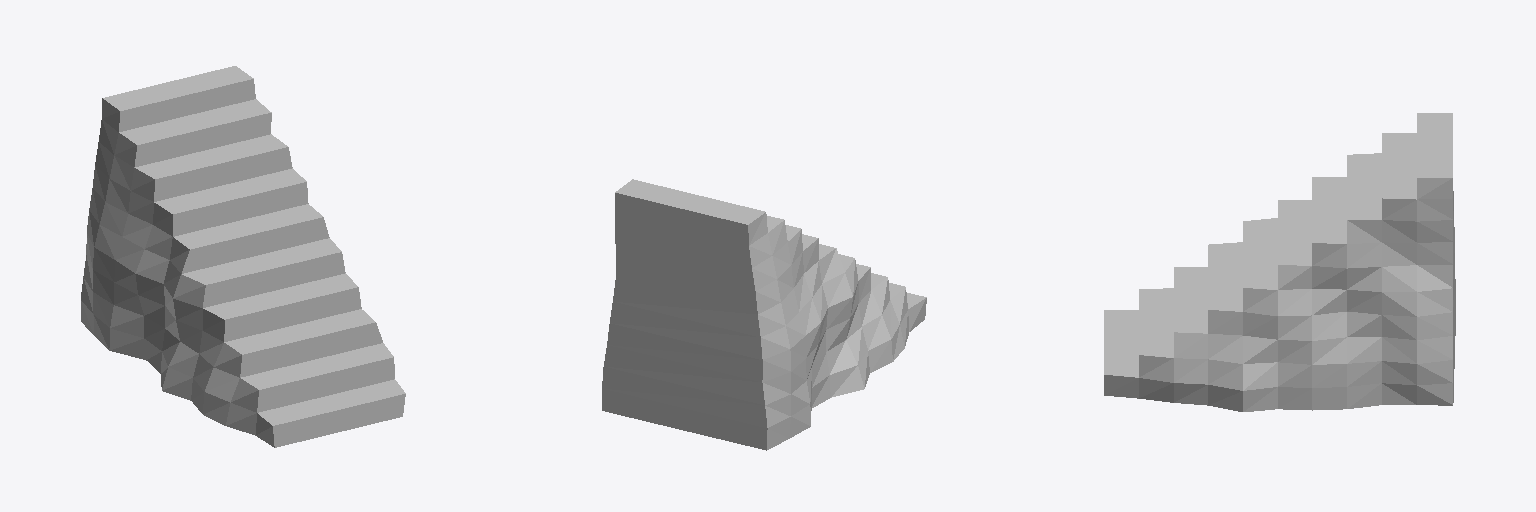
The model's file is TempleStairs.obj.
The picture shows the model from 3 angles: view 1: azimuth 30°, elevation 25°; view 2: azimuth 150°, elevation 25°; view 3: azimuth 270°, elevation 25°; orthographic projection.
Visible parts, largest first — view 1: TempleStairs; view 2: TempleStairs; view 3: TempleStairs.
Boxes of the visible parts, <box> form: TempleStairs: <box>81,66,405,447</box>; TempleStairs: <box>602,179,926,450</box>; TempleStairs: <box>1104,113,1455,411</box>.
Bounding box in the file's own units: 475 × 527 × 758.